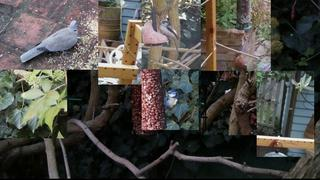blue tit: (161, 89, 179, 114)
collared dove: (20, 20, 78, 63)
long tailed tit: (159, 20, 181, 62)
